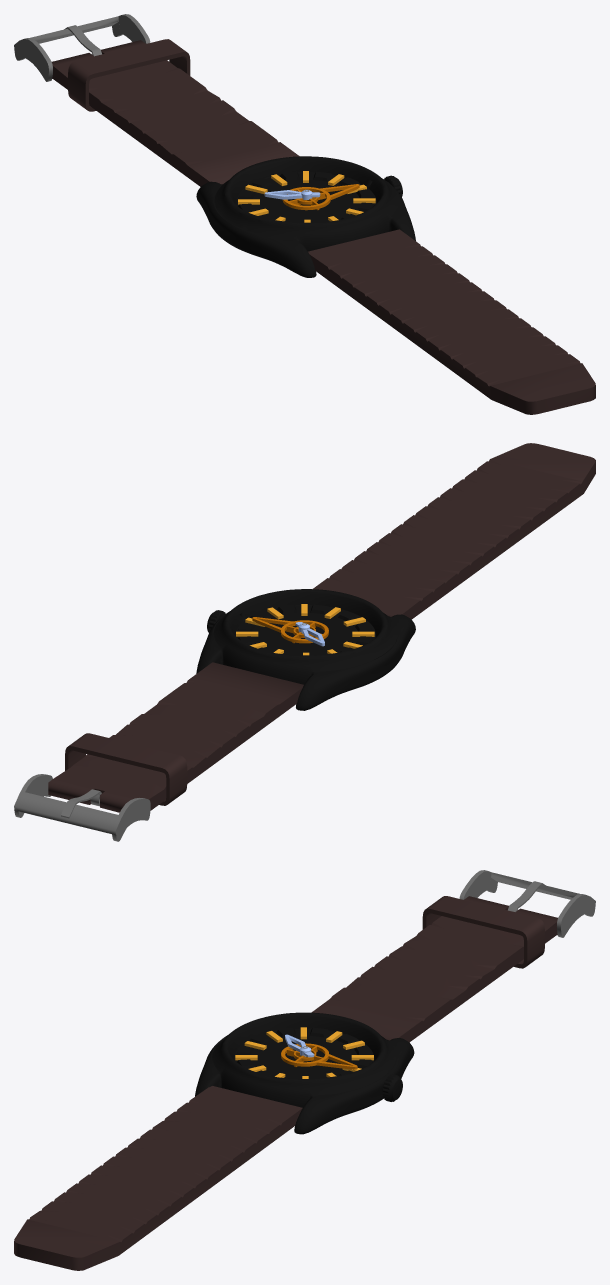
Rendered from sport_watch2.fbx.
3 renders of one model, top to bottom at view 1: azimuth 30°, elevation 25°; view 2: azimuth 150°, elevation 25°; view 3: azimuth 330°, elevation 25°, orthographic.
Visible parts, largest first — view 1: sport watch043, sport watch044, sport saat002, sport watch045, sport watch047, Box171, Tube007; view 2: sport watch043, sport watch044, sport saat002, sport watch047, sport watch045, Box171, Tube007; view 3: sport watch043, sport watch044, sport saat002, sport watch045, sport watch047, Box171, Tube007.
Part boxes in pixels (x1,y1,x2,y2): sport watch043: [308, 229, 595, 414]; sport watch044: [52, 40, 299, 186]; sport saat002: [196, 156, 415, 277]; sport watch045: [68, 39, 190, 111]; sport watch047: [14, 14, 150, 81]; Box171: [237, 171, 375, 222]; Tube007: [282, 184, 359, 210]; sport watch043: [312, 443, 595, 619]; sport watch044: [48, 662, 303, 812]; sport saat002: [196, 589, 415, 710]; sport watch047: [14, 774, 150, 841]; sport watch045: [65, 733, 187, 805]; Box171: [236, 604, 374, 655]; Tube007: [252, 617, 328, 643]; sport watch043: [14, 1086, 302, 1270]; sport watch044: [311, 896, 557, 1042]; sport saat002: [195, 1012, 414, 1134]; sport watch045: [422, 896, 544, 968]; sport watch047: [459, 870, 595, 937]; Box171: [235, 1027, 373, 1078]; Tube007: [281, 1043, 357, 1069].
Size of the model in its own units: 136 by 27.96 by 669.
